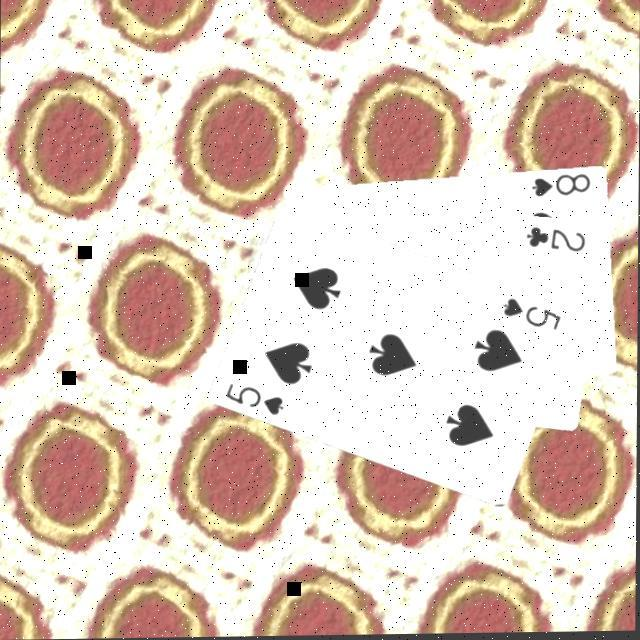2C: (524, 223, 590, 256)
5S: (502, 294, 566, 335), (224, 378, 288, 419)
8S: (529, 171, 595, 200)
